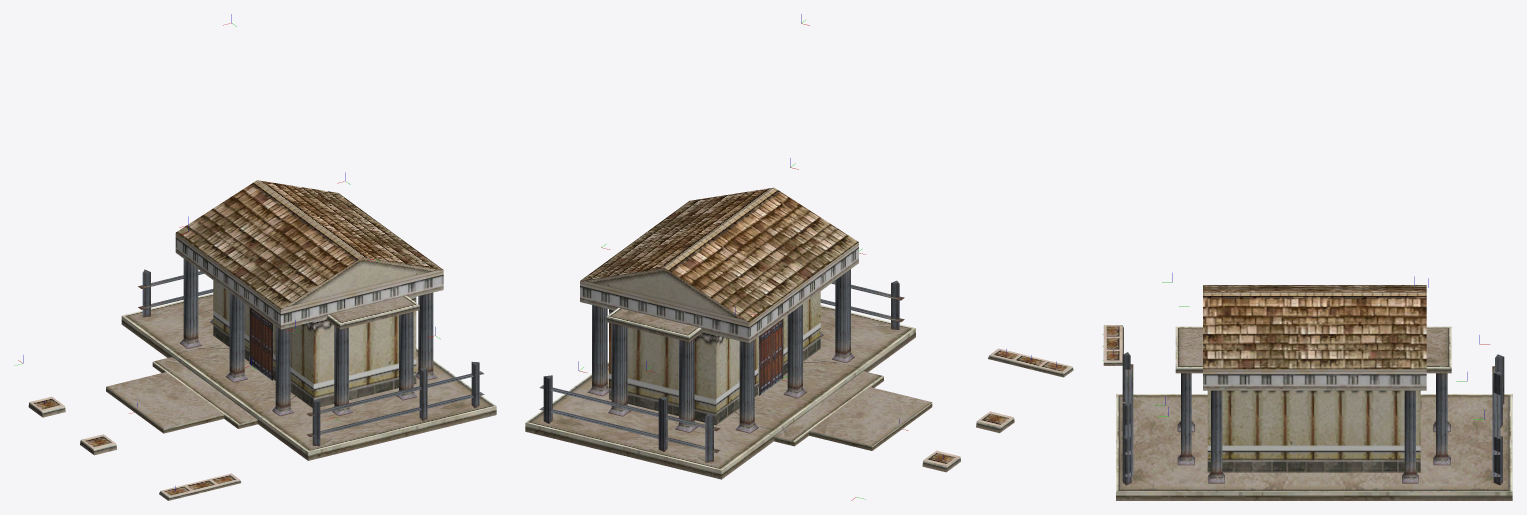
File: greek-temple-age0.glb
3 views of the same model, side by side, from view 1: azimuth 30°, elevation 25°; view 2: azimuth 150°, elevation 25°; view 3: azimuth 270°, elevation 25° (orthographic). The views are drawn at different scales.
Visible parts, largest first — view 1: building g templeage0Model; view 2: building g templeage0Model; view 3: building g templeage0Model.
Boxes of the visible parts, <box> form: building g templeage0Model: <box>28,180,496,500</box>; building g templeage0Model: <box>525,187,1073,479</box>; building g templeage0Model: <box>1103,285,1512,500</box>.
Bounding box in the file's own units: 9.81 × 10.25 × 9.56.
5 materials, 4 textured.
